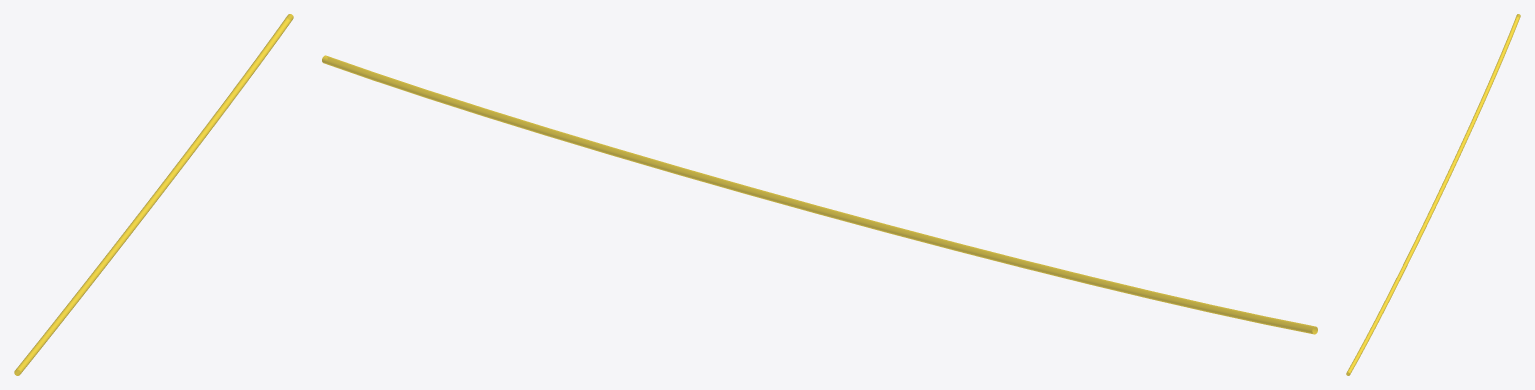
The model's file is Event_100608114_track_13.fbx.
3 views of the same model, side by side, from view 1: azimuth 90°, elevation 25°; view 2: azimuth 150°, elevation 25°; view 3: azimuth 270°, elevation 25° (orthographic). The views are drawn at different scales.
Visible parts, largest first — view 1: Model; view 2: Model; view 3: Model.
Boxes of the visible parts, x1,y1,x2,y2 form: Model: (14, 14, 293, 375); Model: (322, 55, 1317, 334); Model: (1346, 14, 1520, 375).
Size of the model in its own units: 6.55 by 0.7545 by 1.66.
